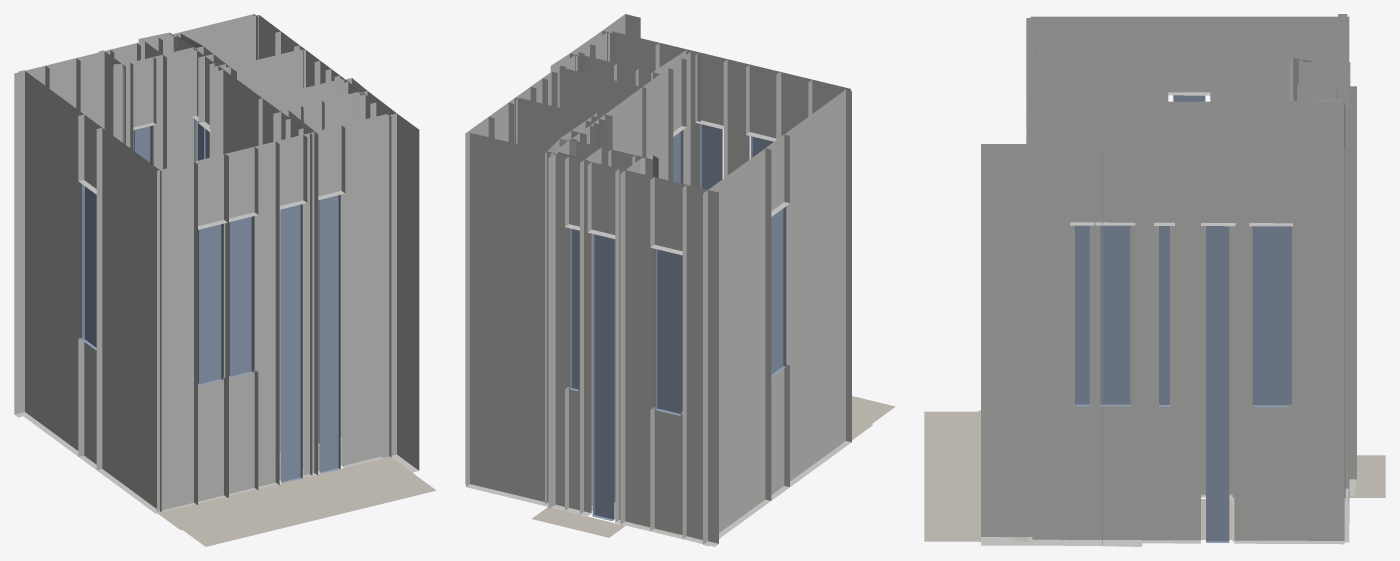
The model's file is plan2scene_vector_house.glb.
3 views of the same model, side by side, from view 1: azimuth 30°, elevation 25°; view 2: azimuth 150°, elevation 25°; view 3: azimuth 270°, elevation 25° (orthographic). The views are drawn at different scales.
Visible parts, largest first — view 1: walls, doors_windows, floor; view 2: walls, doors_windows, floor; view 3: walls, doors_windows, floor.
Boxes of the visible parts, x1,y1,x2,y2 form: walls: [14, 14, 419, 513]; doors_windows: [82, 120, 340, 482]; floor: [83, 437, 436, 546]; walls: [465, 14, 851, 546]; doors_windows: [570, 124, 786, 521]; floor: [532, 396, 895, 541]; walls: [981, 14, 1356, 546]; doors_windows: [1075, 95, 1291, 542]; floor: [924, 410, 1385, 541].
Bounding box in the file's own units: 198 × 260 × 277.
